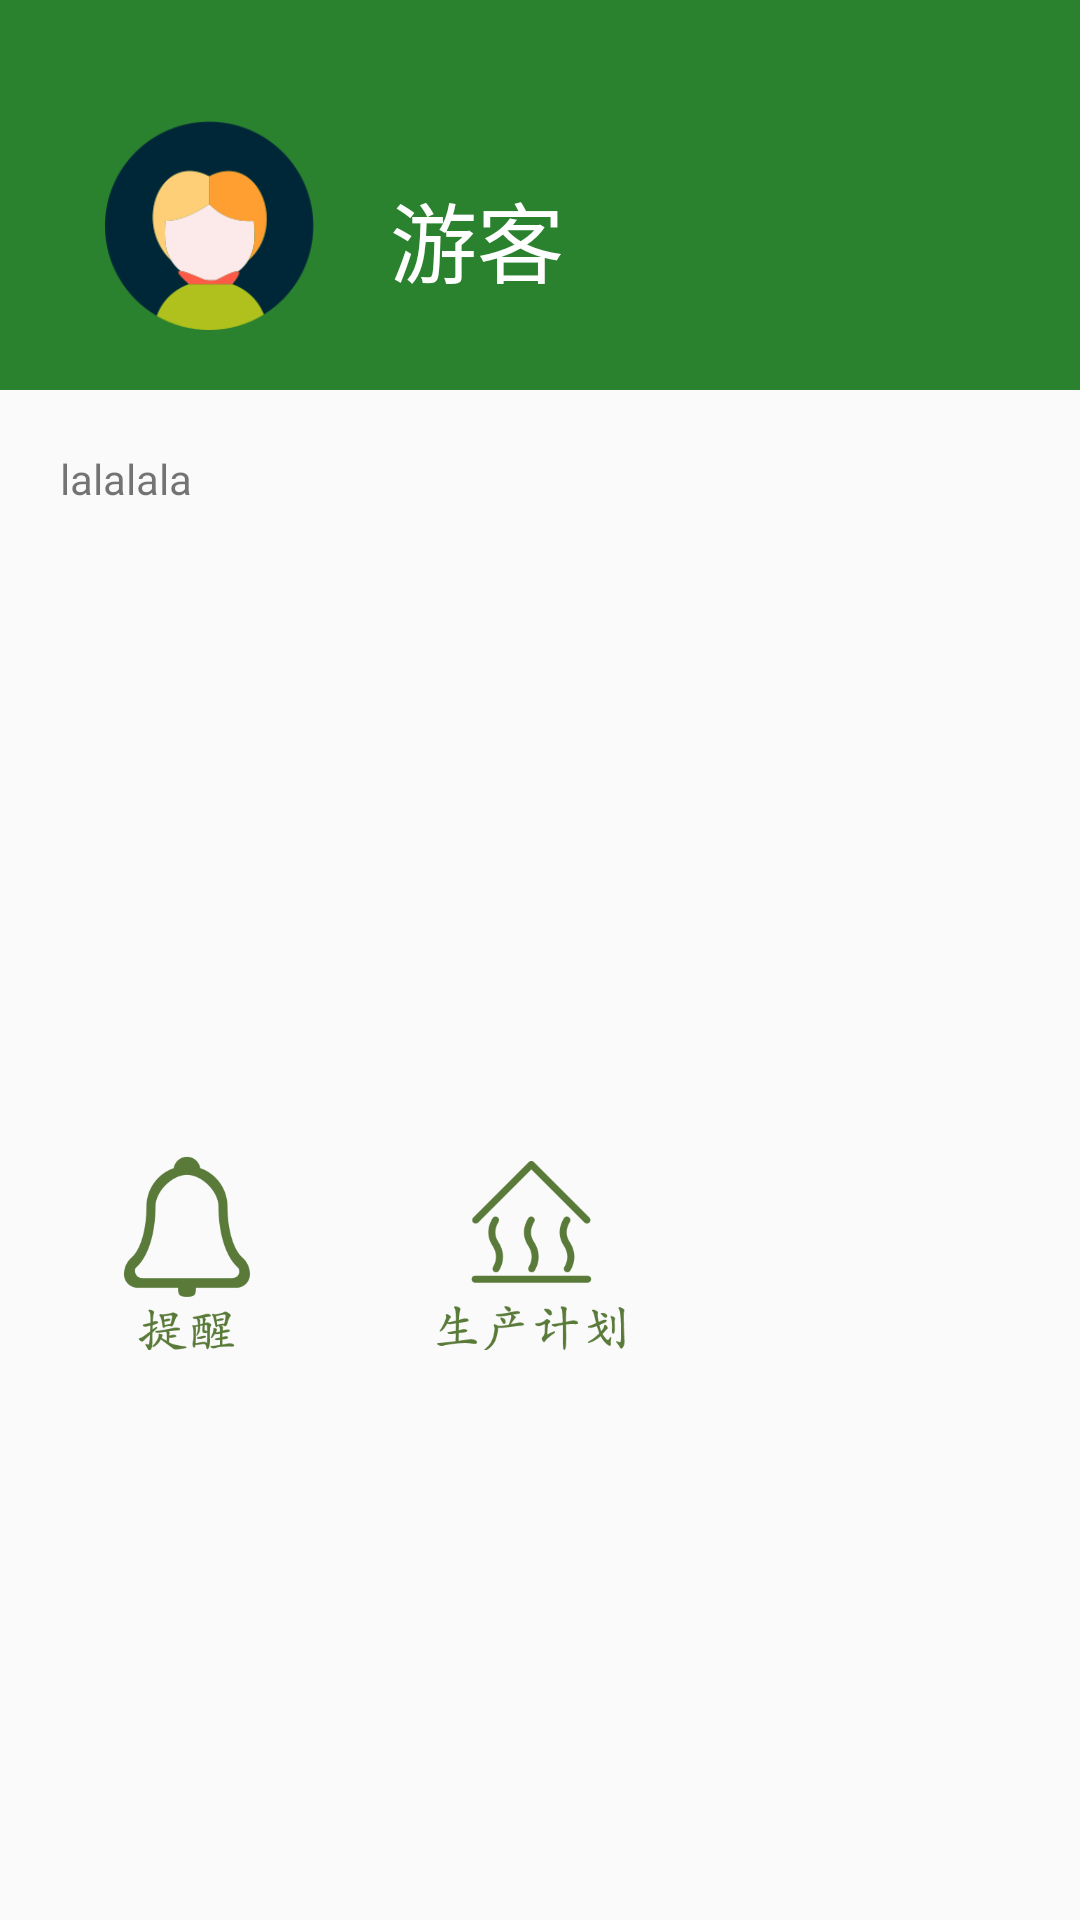

Screen size 1080px x 1920px. Icon name, then its center in pixels as point (x, y):
youke: point (209, 225)
